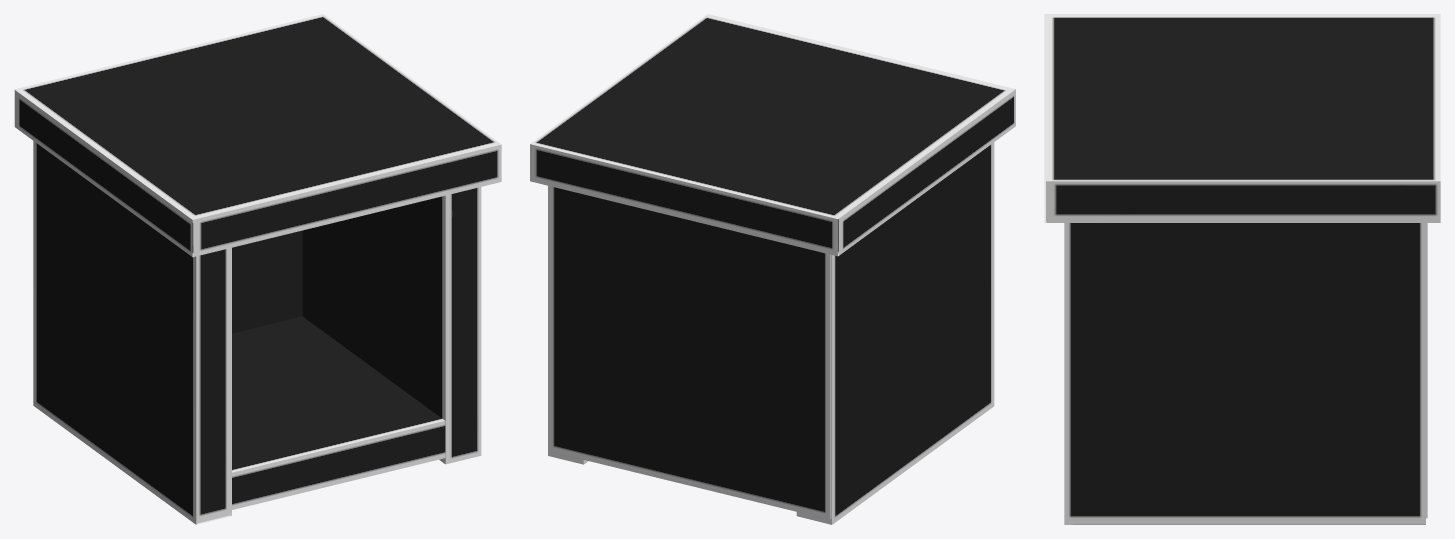
The model's file is Drawer_1.fbx.
The picture shows the model from 3 angles, left to right: view 1: azimuth 30°, elevation 25°; view 2: azimuth 150°, elevation 25°; view 3: azimuth 270°, elevation 25°; orthographic projection. The views are drawn at different scales.
Visible parts, largest first — view 1: Drawer 1; view 2: Drawer 1; view 3: Drawer 1.
Part boxes in pixels (x1,y1,x2,y2): Drawer 1: [14, 14, 501, 524]; Drawer 1: [530, 14, 1015, 524]; Drawer 1: [1044, 14, 1440, 524].
Size of the model in its own units: 10.51 by 10.23 by 10.51.
1 material, 1 textured.
